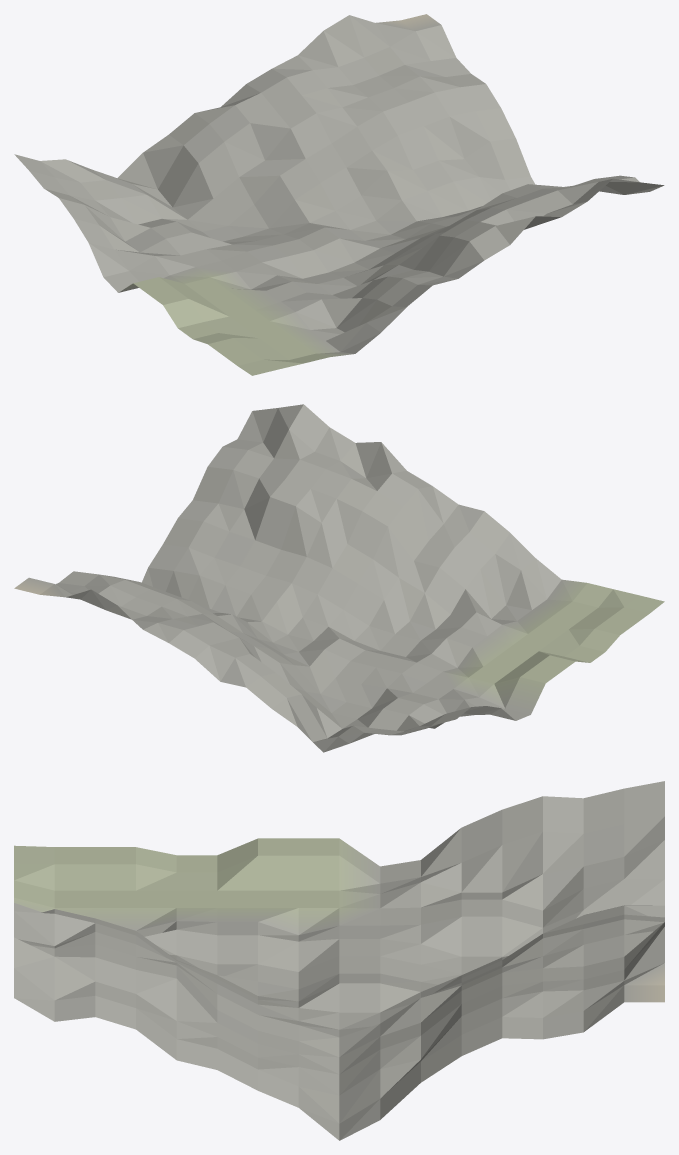
The picture shows the model from 3 angles, top to bottom: view 1: azimuth 30°, elevation 25°; view 2: azimuth 150°, elevation 25°; view 3: azimuth 270°, elevation 25°; orthographic projection. The views are drawn at different scales.
Bounding box in the file's own units: 32 × 9.46 × 32.
